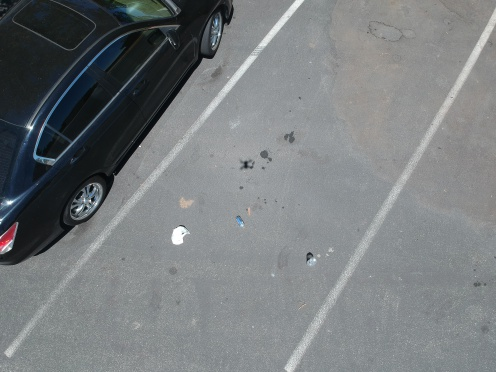bottle: (300, 251, 320, 269)
can: (232, 214, 246, 228)
plastic bag: (166, 223, 191, 245)
